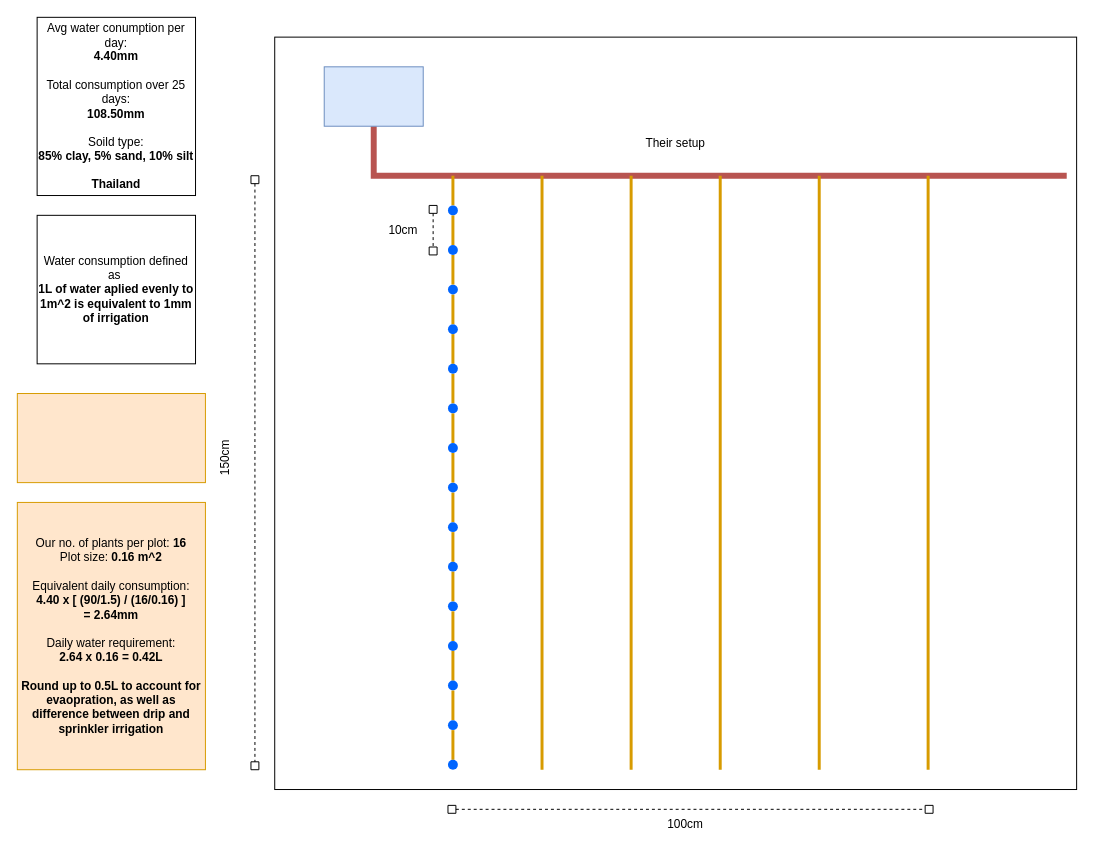
The diagram is 1094 pixels wide and 856 high, and some of its shapes have lost their labels. Each missing label, with the box of its shape:
Total no. of plants: 90 Total Area of plot: 1.5 m^2: (16, 393, 205, 483)
Water Tank: (323, 66, 423, 126)
